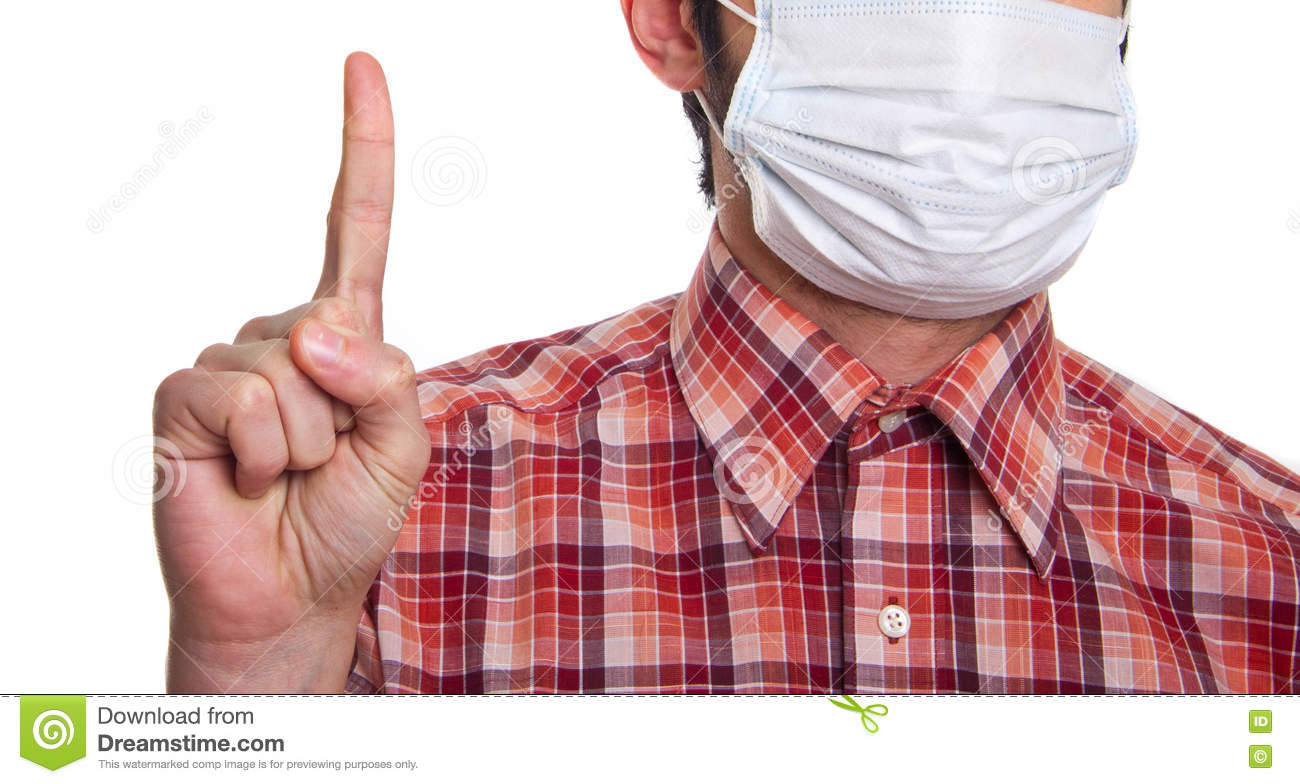mask: (722, 1, 1136, 322)
